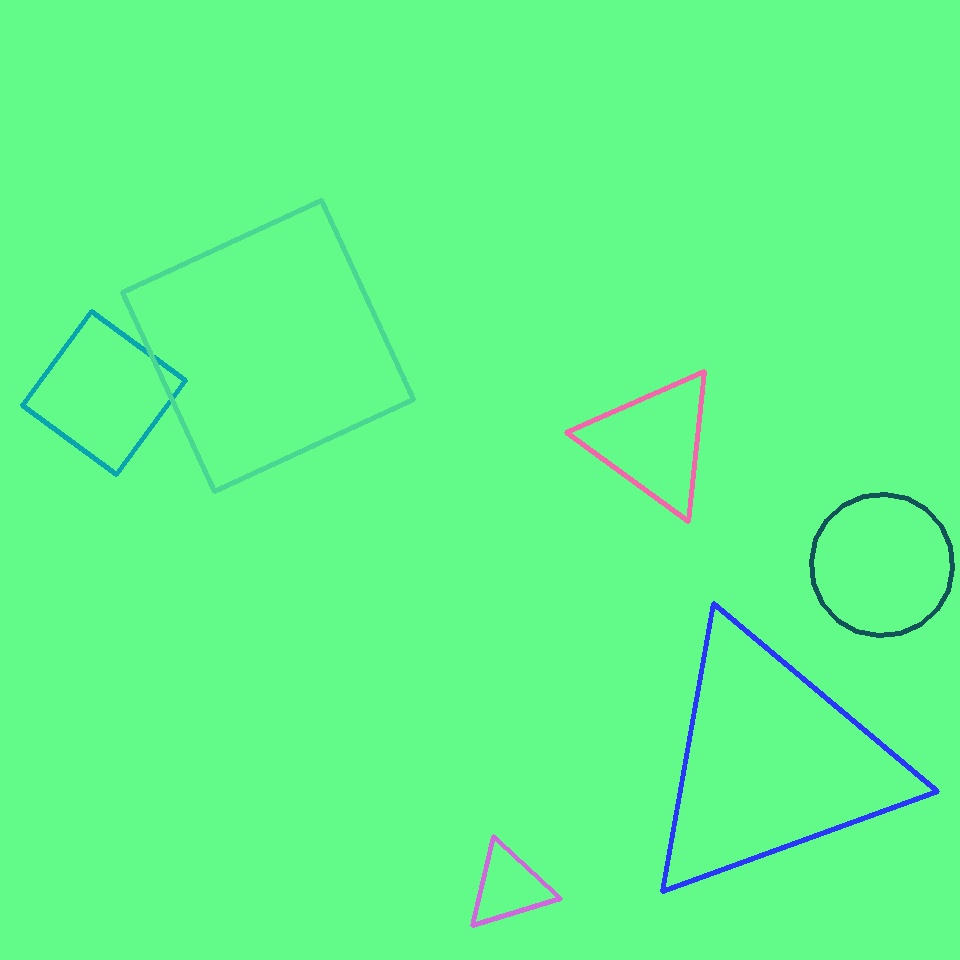circle: (634, 618, 908, 906), (584, 367, 722, 517), (465, 842, 553, 932)
square: (123, 200, 414, 492), (22, 312, 186, 474)
triangle: (811, 494, 952, 636)
